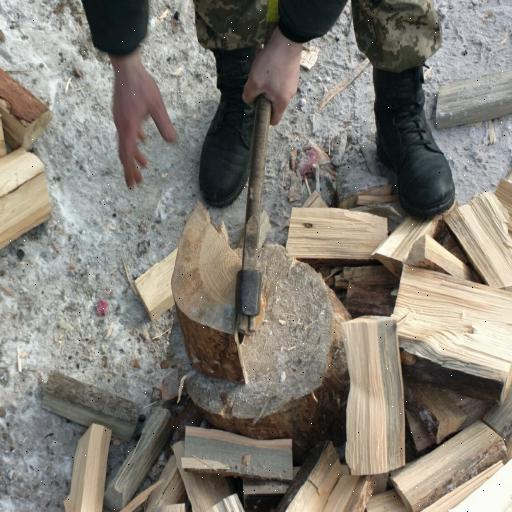Axe: (232, 94, 264, 343)
